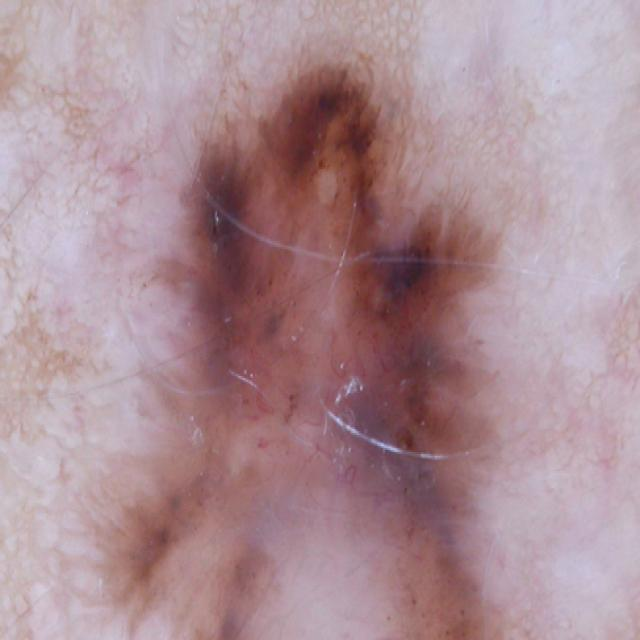Carcinoma: (100, 57, 568, 640)
